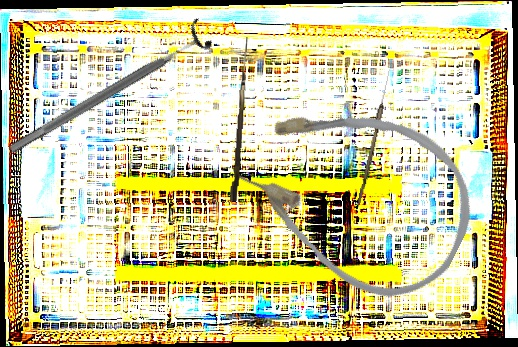Cannula: (211, 64, 499, 323)
Fixation Ring: (0, 16, 217, 166)
Hook Surgical: (229, 36, 249, 202)
Surgical Spoon: (357, 68, 392, 206)
